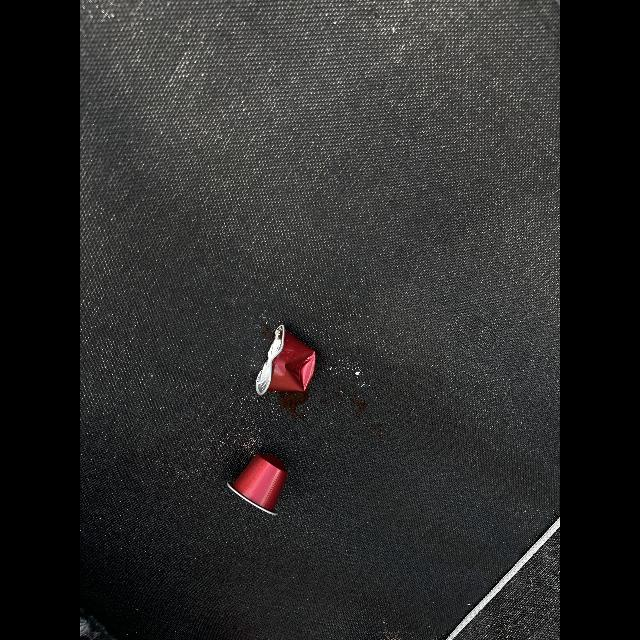damaged_capsule: (242, 319, 336, 401)
intact_capsule: (225, 446, 299, 526)
